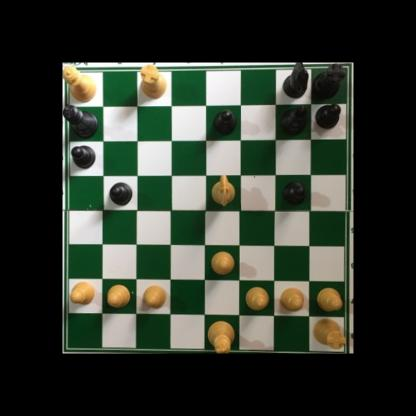black-bishop: (277, 102, 307, 135)
black-king: (63, 102, 100, 141)
black-knight: (282, 63, 310, 100)
black-pawn: (314, 102, 342, 131), (210, 108, 237, 136), (69, 144, 97, 170), (107, 181, 132, 207), (282, 181, 307, 206)
black-rook: (311, 63, 346, 100)
white-king: (206, 320, 235, 353)
white-knight: (211, 174, 235, 208)
white-pawn: (67, 279, 97, 305), (243, 284, 270, 311), (279, 286, 305, 314), (313, 288, 343, 312), (209, 251, 237, 275), (105, 283, 131, 308), (142, 284, 167, 309)
white-queen: (63, 63, 100, 102)
white-rook: (310, 315, 346, 350), (136, 63, 166, 100)
